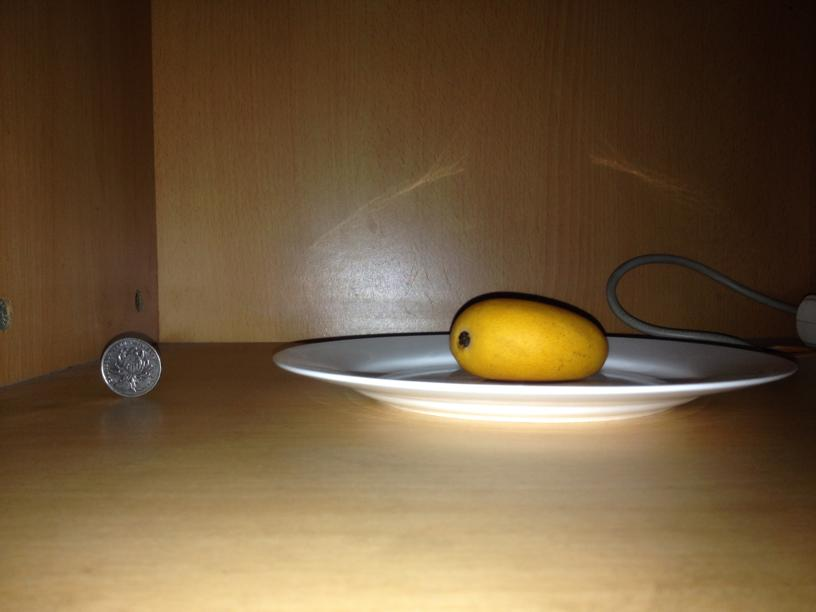coin: (100, 339, 162, 396)
mango: (448, 302, 608, 379)
